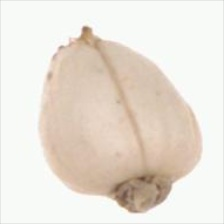L3: (51, 26, 118, 49)
L4: (39, 26, 203, 212)
